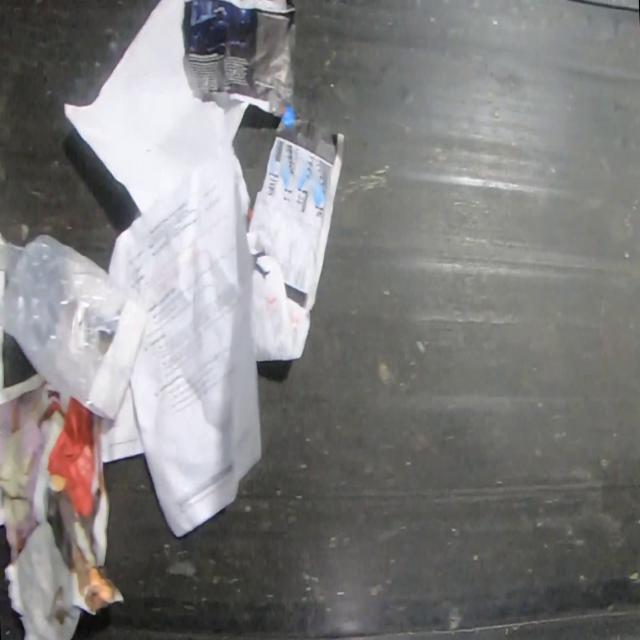soft_plastic: (0, 233, 151, 423)
